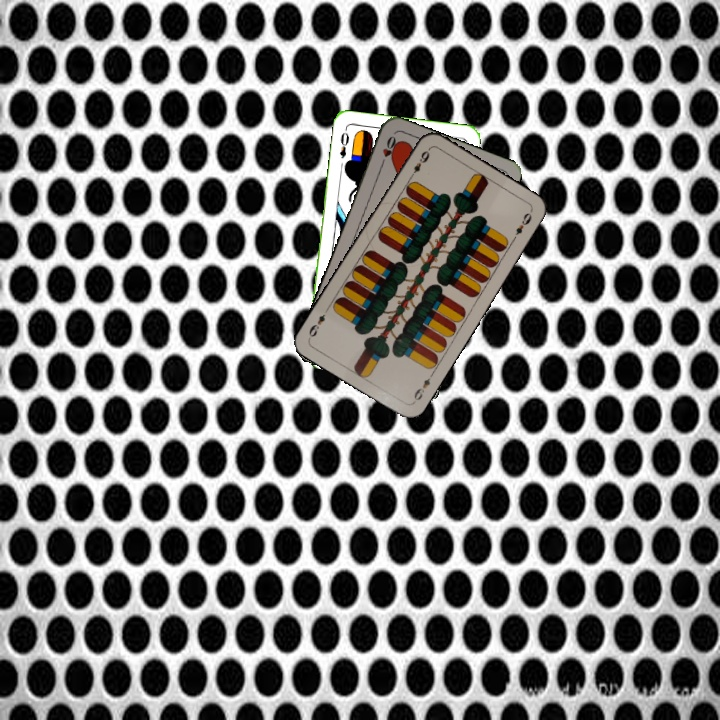E9: (405, 145, 432, 181), (409, 369, 436, 405)
EO: (336, 125, 352, 161)
HO: (376, 131, 400, 170)
